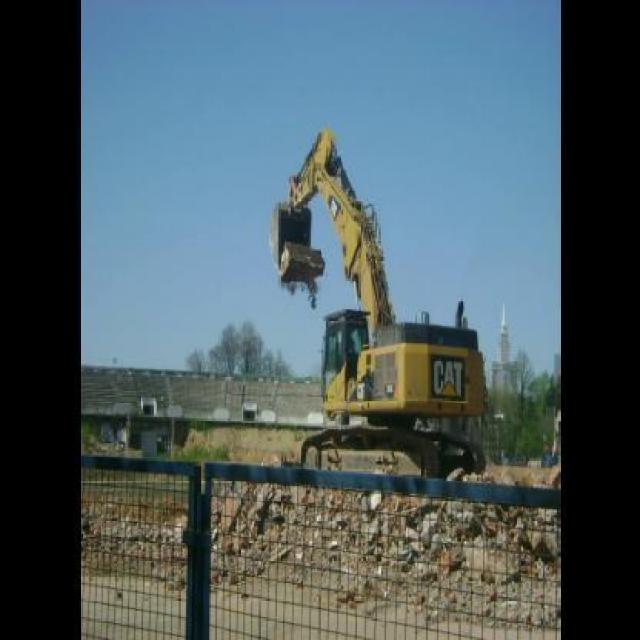Excavator: (260, 124, 491, 498)
